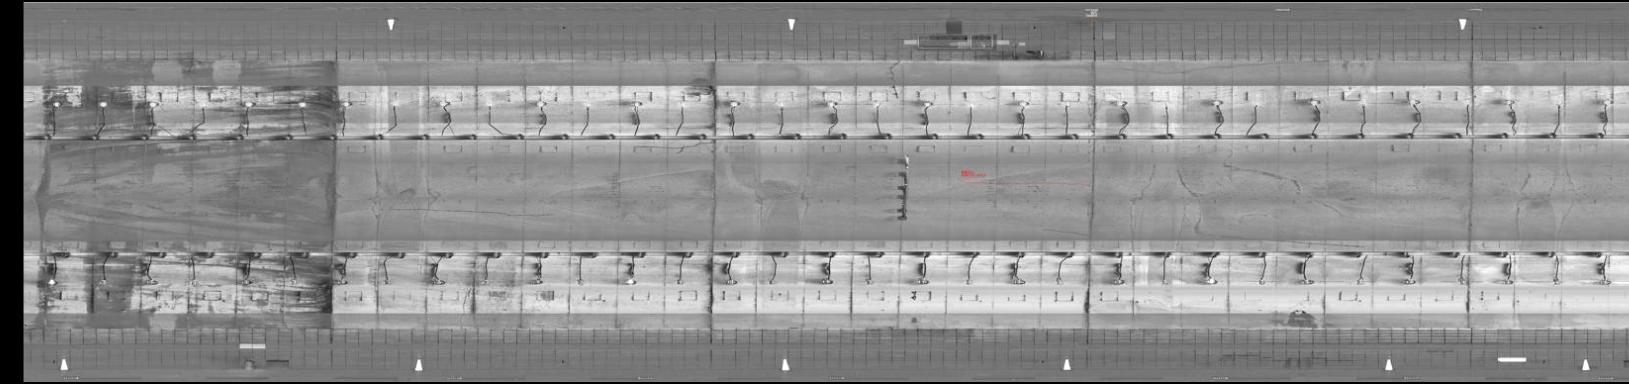light: (1004, 274, 1026, 289), (144, 95, 165, 111), (1407, 94, 1426, 110), (1057, 97, 1078, 110), (44, 275, 65, 289), (330, 275, 352, 289), (1158, 97, 1178, 111), (436, 97, 457, 110), (240, 97, 261, 110), (1307, 94, 1326, 109), (1208, 95, 1227, 110), (193, 97, 212, 111), (236, 276, 258, 289), (912, 276, 935, 287), (1200, 275, 1221, 287), (94, 95, 111, 110), (1047, 274, 1065, 289), (1356, 95, 1374, 109), (529, 275, 548, 289), (957, 275, 976, 289), (1015, 97, 1037, 108), (92, 276, 116, 286), (1115, 97, 1134, 109), (919, 97, 939, 109), (725, 97, 745, 109), (426, 276, 446, 289), (858, 276, 878, 289), (1461, 97, 1477, 111), (965, 97, 982, 111), (531, 95, 548, 110), (1502, 95, 1520, 109), (339, 97, 356, 110), (48, 97, 65, 110), (671, 275, 689, 289), (388, 95, 406, 108), (185, 276, 204, 289), (1596, 276, 1614, 289), (1456, 274, 1471, 289), (141, 275, 161, 286), (1298, 276, 1317, 287), (1250, 97, 1267, 109), (1350, 276, 1370, 286), (1252, 275, 1271, 286), (674, 97, 691, 109), (1548, 276, 1565, 289), (823, 98, 843, 108), (1499, 276, 1517, 287), (1551, 97, 1566, 110), (483, 97, 499, 109), (294, 99, 313, 109), (478, 276, 493, 289), (819, 276, 837, 286), (285, 277, 301, 289), (571, 276, 588, 287), (1401, 276, 1418, 287), (376, 278, 396, 287), (579, 100, 596, 110), (1111, 276, 1128, 286), (1600, 97, 1615, 108), (622, 277, 639, 287), (763, 279, 780, 289), (1155, 277, 1173, 286), (629, 97, 644, 107), (872, 97, 884, 109), (776, 99, 790, 110), (725, 276, 740, 286)
